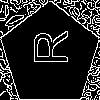R: (25, 30, 68, 66)
